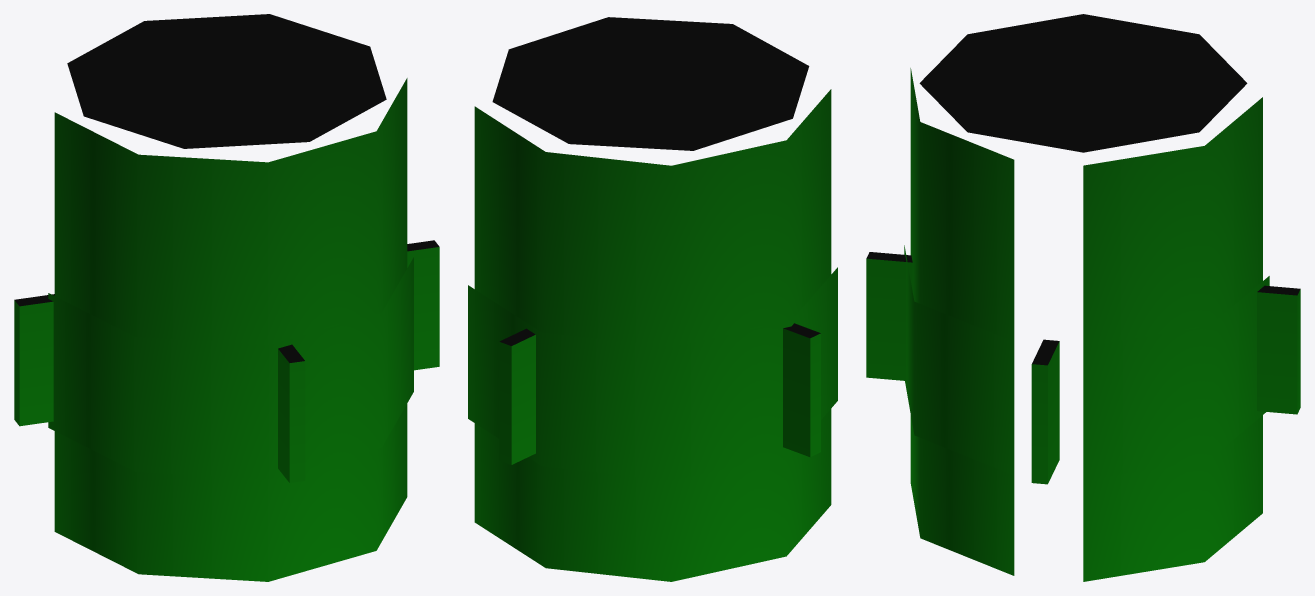
The model's file is burningtrashbarrel.glb.
3 renders of one model, left to right at view 1: azimuth 30°, elevation 25°; view 2: azimuth 150°, elevation 25°; view 3: azimuth 270°, elevation 25°, orthographic.
Parts seen in each view (by area): view 1: lod0; view 2: lod0; view 3: lod0.
Boxes of the visible parts, x1=… form: lod0: x1=14, y1=14, x2=439, y2=581; lod0: x1=468, y1=17, x2=837, y2=581; lod0: x1=866, y1=14, x2=1300, y2=581.
Size of what is drawn, in the model's own units: 1.32 by 1.45 by 1.32.
